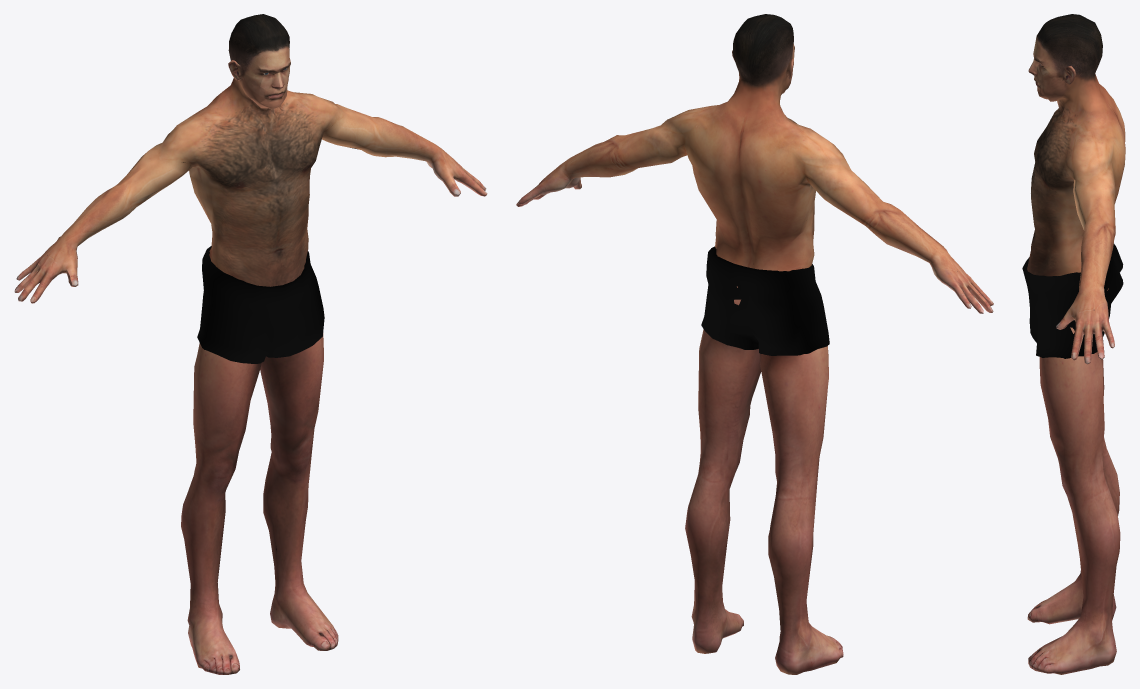
File: man.fbx
3 views of the same model, side by side, from view 1: azimuth 30°, elevation 25°; view 2: azimuth 150°, elevation 25°; view 3: azimuth 270°, elevation 25° (orthographic).
Visible parts, largest first — view 1: polySurface11; view 2: polySurface11; view 3: polySurface11.
Part boxes in pixels (x1,y1,x2,y2): polySurface11: (14,14,487,674); polySurface11: (516,14,993,674); polySurface11: (1022,14,1125,674).
Size of the model in its own units: 426 by 546 by 81.61.
3 materials, 2 textured.
